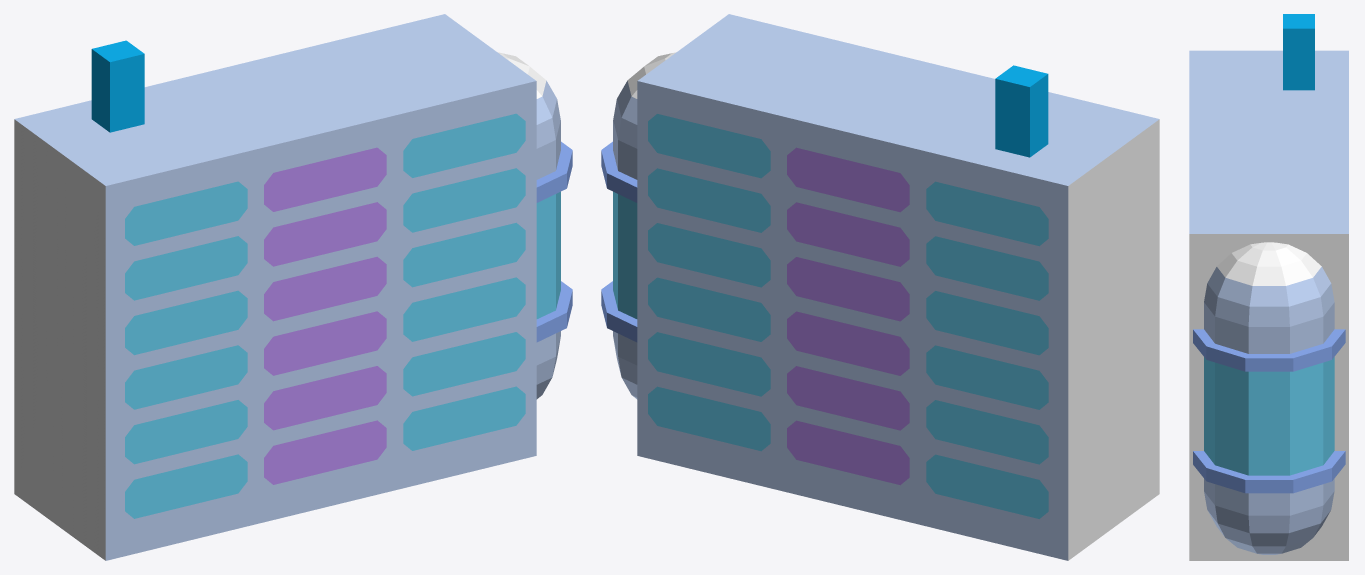
The model's file is Building_045_e.fbx.
The picture shows the model from 3 angles, left to right: view 1: azimuth 30°, elevation 25°; view 2: azimuth 150°, elevation 25°; view 3: azimuth 270°, elevation 25°; orthographic projection. The views are drawn at different scales.
Parts seen in each view (by area): view 1: Building_045_e; view 2: Building_045_e; view 3: Building_045_e.
Boxes of the visible parts, x1,y1,x2,y2 form: Building_045_e: [14, 14, 572, 560]; Building_045_e: [601, 14, 1159, 560]; Building_045_e: [1189, 14, 1348, 560].
Size of the model in its own units: 39.33 by 33.54 by 12.72.
